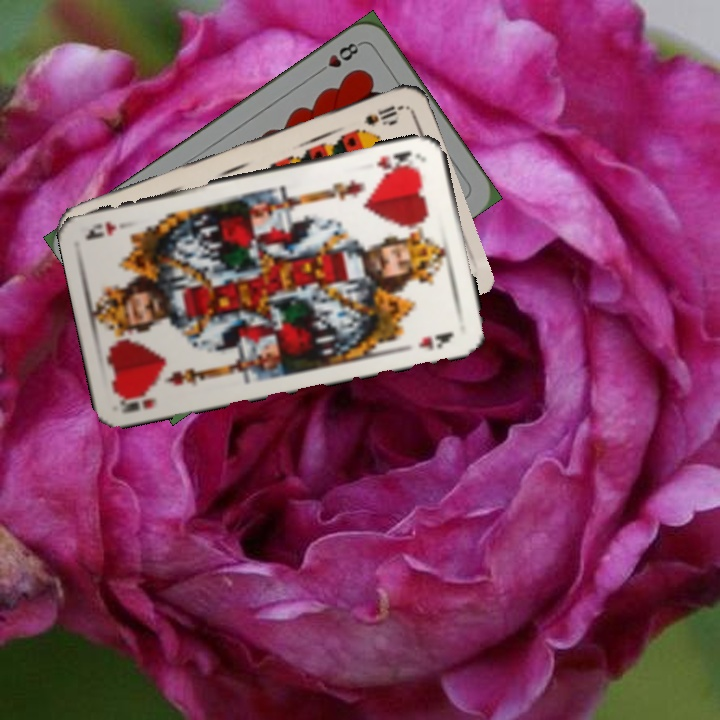H8: (312, 38, 364, 77)
HK: (372, 146, 423, 176), (116, 386, 159, 416)
S10: (360, 101, 406, 129)
